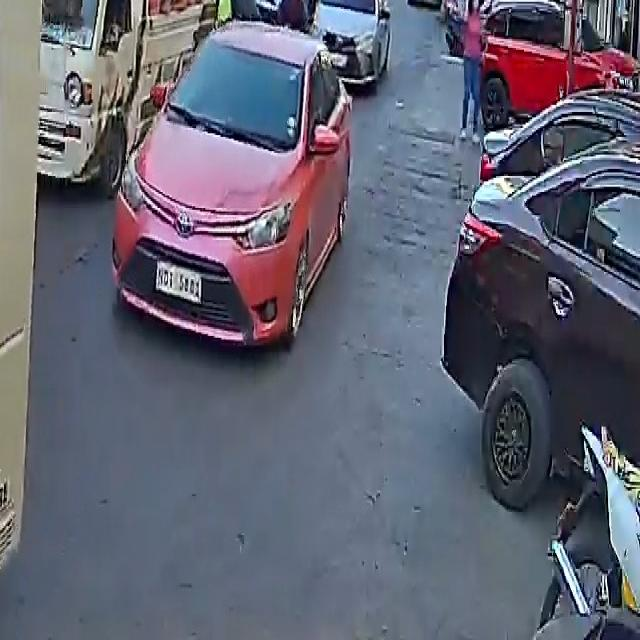car: (445, 89, 640, 525), (111, 25, 357, 351), (478, 0, 640, 130), (314, 0, 395, 89), (250, 0, 308, 25), (406, 0, 443, 5)
